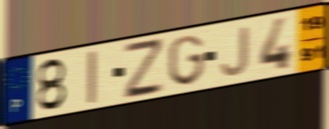4: (257, 14, 295, 72)
8: (36, 57, 67, 112)
G: (166, 32, 207, 88)
I: (85, 48, 98, 107)
J: (219, 24, 251, 78)
Z: (122, 37, 166, 101)
